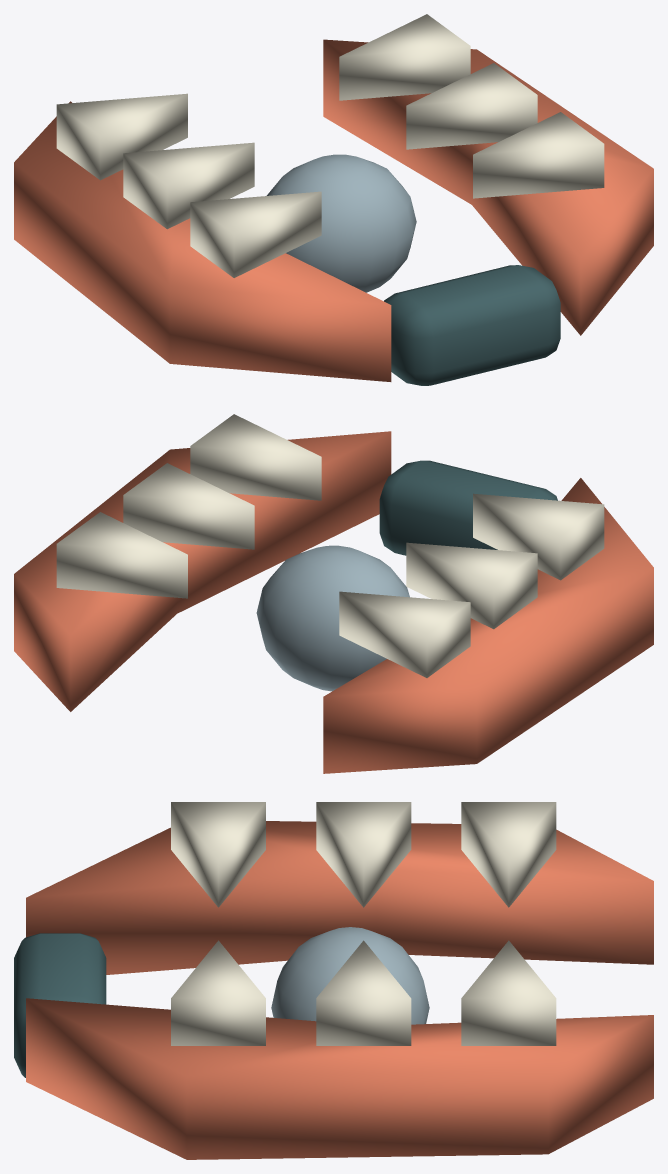
The model's file is devour.glb.
3 renders of one model, top to bottom at view 1: azimuth 30°, elevation 25°; view 2: azimuth 150°, elevation 25°; view 3: azimuth 270°, elevation 25°, orthographic. The views are drawn at different scales.
Visible parts, largest first — view 1: Crusher jaw, Crusher jaw.001, Crusher hinge, Consumable stone, Inward tooth, Inward tooth.003, Inward tooth.001, Inward tooth.002, Inward tooth.005, Inward tooth.004; view 2: Crusher jaw, Crusher jaw.001, Consumable stone, Crusher hinge, Inward tooth.002, Inward tooth.005, Inward tooth.001, Inward tooth, Inward tooth.003, Inward tooth.004; view 3: Crusher jaw.001, Crusher jaw, Inward tooth.001, Inward tooth.002, Inward tooth.004, Inward tooth.005, Inward tooth, Inward tooth.003, Consumable stone, Crusher hinge.
Boxes of the visible parts, left/top/right/bottom form: Crusher jaw: left=14, top=101, right=391, bottom=381; Crusher jaw.001: left=323, top=39, right=653, bottom=335; Crusher hinge: left=384, top=265, right=560, bottom=385; Consumable stone: left=266, top=154, right=416, bottom=292; Inward tooth: left=190, top=191, right=321, bottom=277; Inward tooth.003: left=473, top=112, right=604, bottom=198; Inward tooth.001: left=123, top=142, right=254, bottom=229; Inward tooth.002: left=56, top=93, right=187, bottom=180; Inward tooth.005: left=339, top=14, right=470, bottom=100; Inward tooth.004: left=406, top=63, right=537, bottom=149; Crusher jaw: left=323, top=478, right=653, bottom=773; Crusher jaw.001: left=14, top=431, right=391, bottom=711; Consumable stone: left=256, top=545, right=409, bottom=691; Crusher hinge: left=379, top=460, right=557, bottom=555; Inward tooth.002: left=339, top=591, right=470, bottom=677; Inward tooth.005: left=56, top=512, right=187, bottom=598; Inward tooth.001: left=406, top=542, right=537, bottom=629; Inward tooth: left=473, top=493, right=604, bottom=580; Inward tooth.003: left=190, top=414, right=321, bottom=500; Inward tooth.004: left=123, top=463, right=254, bottom=549; Crusher jaw.001: left=26, top=998, right=653, bottom=1159; Crusher jaw: left=26, top=821, right=653, bottom=974; Inward tooth.001: left=316, top=802, right=411, bottom=907; Inward tooth.002: left=461, top=802, right=556, bottom=907; Inward tooth.004: left=316, top=940, right=411, bottom=1045; Inward tooth.005: left=461, top=940, right=556, bottom=1045; Inward tooth: left=171, top=802, right=265, bottom=907; Inward tooth.003: left=171, top=940, right=265, bottom=1045; Consumable stone: left=271, top=927, right=429, bottom=1024; Crusher hinge: left=14, top=933, right=106, bottom=1077.
Bounding box in the file's own units: 2.3 × 0.75 × 2.42.
